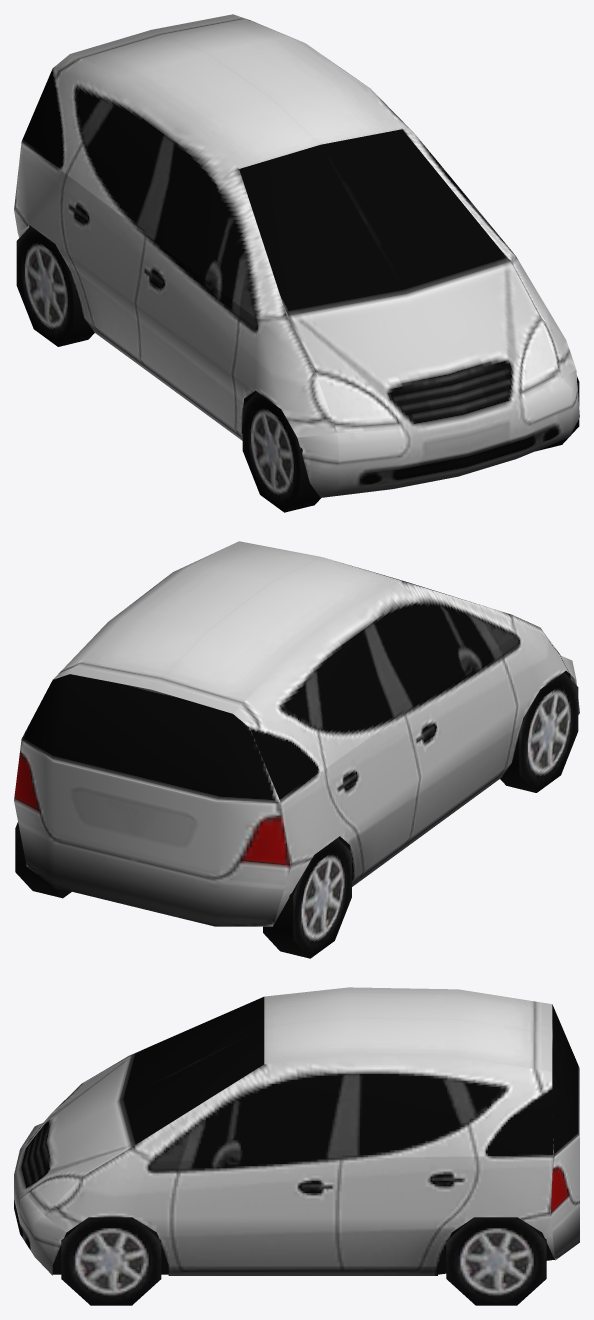
Rendered from Car_MercedesA.fbx.
3 views of the same model, one above another, from view 1: azimuth 30°, elevation 25°; view 2: azimuth 150°, elevation 25°; view 3: azimuth 270°, elevation 25° (orthographic). The views are drawn at different scales.
Visible parts, largest first — view 1: Car_MercedesA; view 2: Car_MercedesA; view 3: Car_MercedesA.
Boxes of the visible parts, x1=… form: Car_MercedesA: x1=14, y1=14, x2=579, y2=512; Car_MercedesA: x1=14, y1=541, x2=579, y2=958; Car_MercedesA: x1=14, y1=987, x2=579, y2=1305.
Size of the model in its own units: 1.75 by 1.59 by 3.54.
